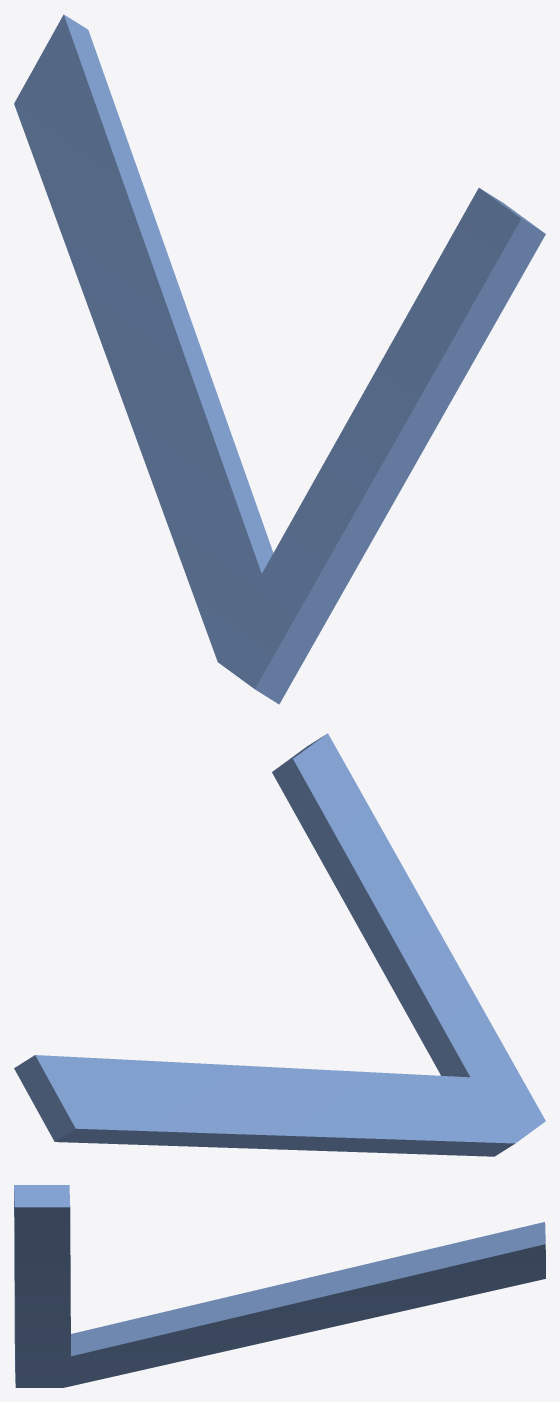
File: New_Number_7.gltf
The picture shows the model from 3 angles, top to bottom: view 1: azimuth 30°, elevation 25°; view 2: azimuth 150°, elevation 25°; view 3: azimuth 270°, elevation 25°; orthographic projection. The views are drawn at different scales.
Parts seen in each view (by area): view 1: Part 277; view 2: Part 277; view 3: Part 277.
Part boxes in pixels (left/top/right/bottom): Part 277: left=14, top=14, right=545, bottom=704; Part 277: left=14, top=733, right=545, bottom=1156; Part 277: left=14, top=1185, right=545, bottom=1387.
Size of the model in its own units: 0.00227 by 0.0032 by 0.00551.
